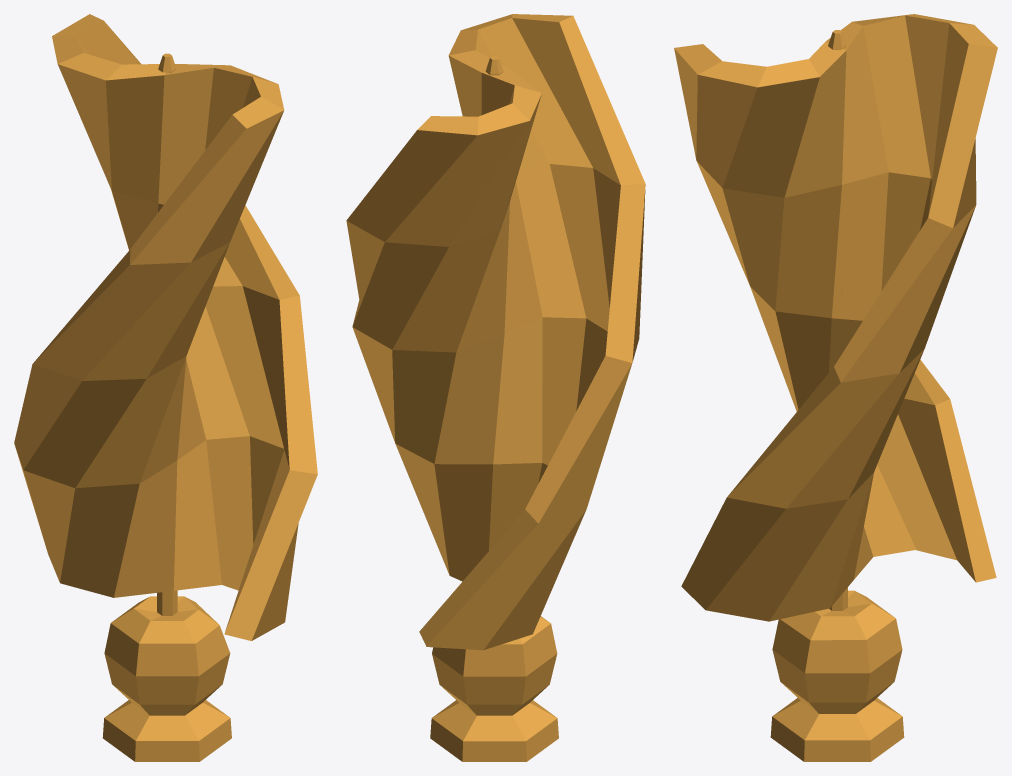
Rendered from scifi-wind-turbine.fbx.
3 views of the same model, side by side, from view 1: azimuth 30°, elevation 25°; view 2: azimuth 150°, elevation 25°; view 3: azimuth 270°, elevation 25° (orthographic). The views are drawn at different scales.
Visible parts, largest first — view 1: scifi-wind-turbine-main, scifi-wind-turbine-base; view 2: scifi-wind-turbine-main, scifi-wind-turbine-base; view 3: scifi-wind-turbine-main, scifi-wind-turbine-base.
Part boxes in pixels (x1,y1,x2,y2): scifi-wind-turbine-main: [14, 14, 317, 640]; scifi-wind-turbine-base: [102, 596, 231, 761]; scifi-wind-turbine-main: [346, 14, 645, 650]; scifi-wind-turbine-base: [430, 616, 558, 761]; scifi-wind-turbine-main: [674, 14, 997, 621]; scifi-wind-turbine-base: [770, 590, 904, 761].
Size of the model in its own units: 1.05 by 2.54 by 1.05.
